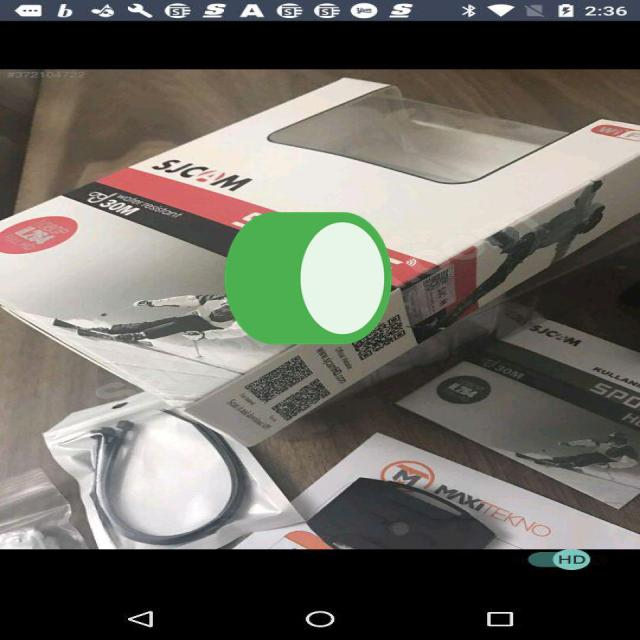social proof: (217, 162, 399, 406)
